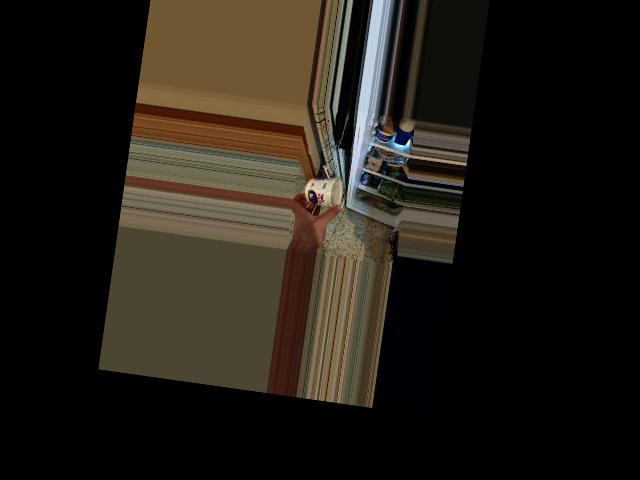cotage: (303, 175, 348, 210)
